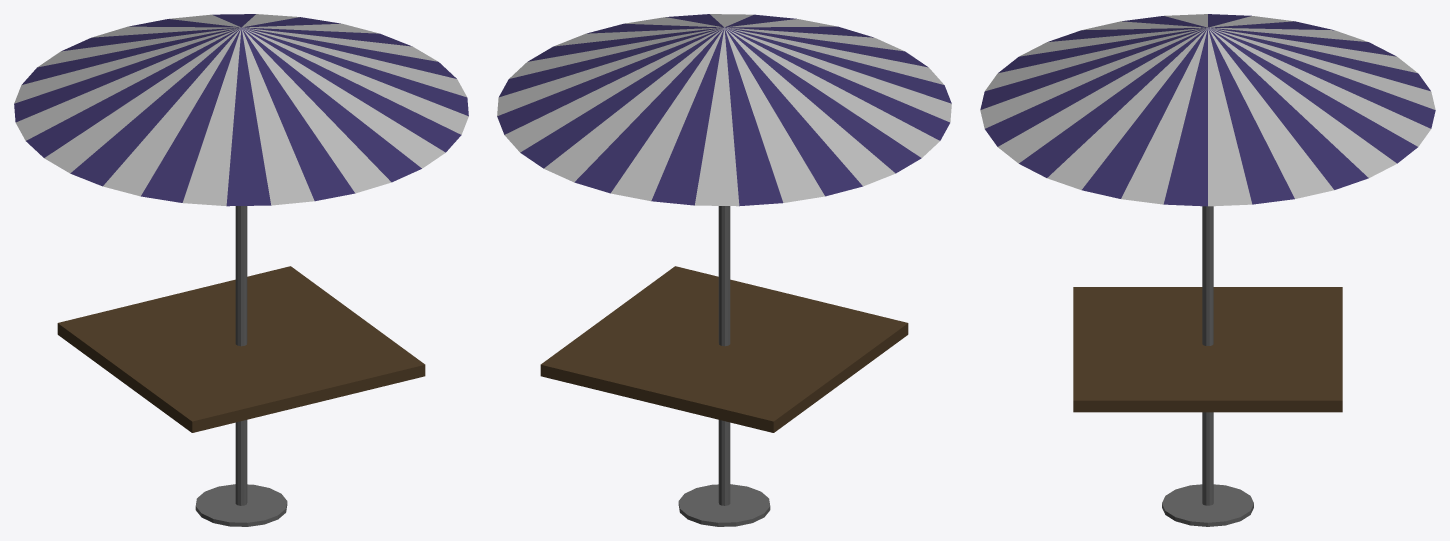
Rendered from TableWithUmbrela(Blue).fbx.
3 views of the same model, side by side, from view 1: azimuth 30°, elevation 25°; view 2: azimuth 150°, elevation 25°; view 3: azimuth 270°, elevation 25° (orthographic).
Visible parts, largest first — view 1: Cone, Cube, Cylinder, Cylinder.001; view 2: Cone, Cube, Cylinder, Cylinder.001; view 3: Cone, Cube, Cylinder, Cylinder.001.
Boxes of the visible parts, x1=… form: Cone: x1=14, y1=14, x2=468, y2=206; Cube: x1=57, y1=266, x2=425, y2=432; Cylinder: x1=195, y1=484, x2=287, y2=526; Cylinder.001: x1=235, y1=206, x2=247, y2=505; Cone: x1=497, y1=14, x2=951, y2=206; Cube: x1=540, y1=266, x2=908, y2=432; Cylinder: x1=678, y1=484, x2=770, y2=526; Cylinder.001: x1=718, y1=206, x2=730, y2=505; Cone: x1=980, y1=14, x2=1435, y2=206; Cube: x1=1073, y1=287, x2=1342, y2=412; Cylinder: x1=1162, y1=484, x2=1253, y2=526; Cylinder.001: x1=1202, y1=206, x2=1213, y2=505.
Bounding box in the file's own units: 200 × 232 × 200.
